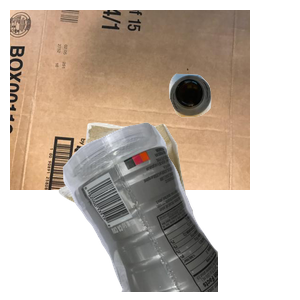cardboard: (10, 10, 250, 190)
glass: (166, 71, 300, 181)
plastic: (60, 120, 300, 300)
trash: (56, 120, 247, 300)
